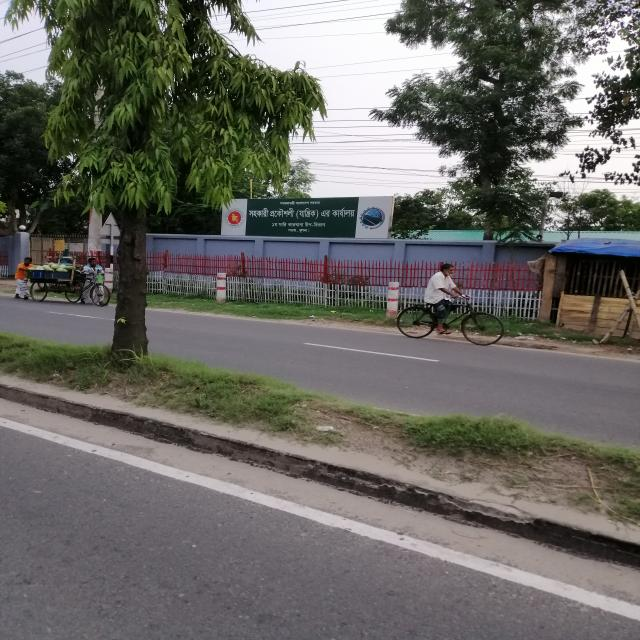Bicycle: (388, 291, 517, 352)
